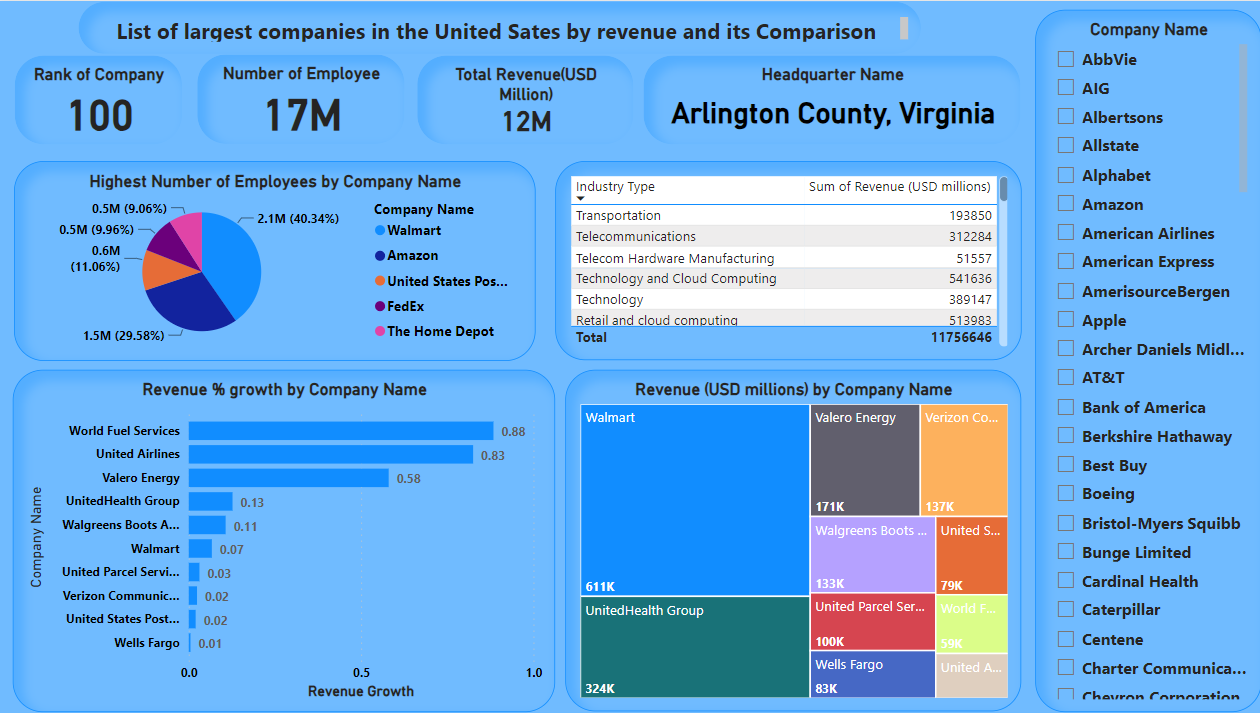

What the dashboard file says about the page in this screenshot:
{"tool":"powerbi","page":{"name":"Page 1","canvas":[1280,720],"ordinal":0},"visuals":[{"type":"barChart","title":"Revenue % growth by Company Name","fields":{"Category":["Companies.Company Name"],"Y":["Sum(Companies.Revenue growth)"]},"box":[18.8,368.8,542.5,342.5],"z":0},{"type":"slicer","title":"Company Name","fields":{"Values":["Companies.Company Name"]},"box":[1041.5,8.2,226.4,702.6],"z":1000},{"type":"card","title":"Rank of Company","fields":{"Values":["Max(Companies.Rank)"]},"box":[20,53.8,168.8,90],"z":2000},{"type":"card","title":"Number of Employee","fields":{"Values":["Sum(Companies.Number of Employees)"]},"box":[202.5,52.5,208.8,91.2],"z":3000},{"type":"card","title":"Total Revenue(USD Million)","fields":{"Values":["Sum(Companies.Revenue (USD millions))"]},"box":[422.5,53.8,217.5,90],"z":4000},{"type":"treemap","title":"Revenue (USD millions) by Company Name","fields":{"Values":["Sum(Companies.Revenue (USD millions))"],"Group":["Companies.Company Name"]},"box":[571.7,369,455.9,341.3],"z":5000},{"type":"card","title":"Headquarter Name","fields":{"Values":["Min(Companies.Headquarters)"]},"box":[648.8,53.8,378.8,90],"z":6000},{"type":"tableEx","fields":{"Values":["Companies.Industry Type","Sum(Companies.Revenue (USD millions))"]},"box":[561.2,160.5,466.6,199],"z":7000},{"type":"pieChart","title":"Highest Number of Employees by Company Name","fields":{"Category":["Companies.Company Name"],"Y":["Sum(Companies.Number of Employees)"]},"box":[20,160,521.2,200],"z":8000},{"type":"textbox","box":[83.8,0,843.8,53.8],"z":8001}]}

Visuals, with their boxes in screenshot pixels (x1, y1, x2, y2), scaled from the page's 1280x720 canvas onto the 1260x713 screenshot:
"Revenue % growth by Company Name" barChart: <box>19,365,553,704</box>
"Company Name" slicer: <box>1025,8,1248,704</box>
"Rank of Company" card: <box>20,53,186,142</box>
"Number of Employee" card: <box>199,52,405,142</box>
"Total Revenue(USD Million)" card: <box>416,53,630,142</box>
"Revenue (USD millions) by Company Name" treemap: <box>563,365,1012,703</box>
"Headquarter Name" card: <box>639,53,1012,142</box>
tableEx - Companies.Industry Type x Sum(Companies.Revenue (USD millions)): <box>552,159,1012,356</box>
"Highest Number of Employees by Company Name" pieChart: <box>20,158,533,356</box>
textbox: <box>82,0,913,53</box>
